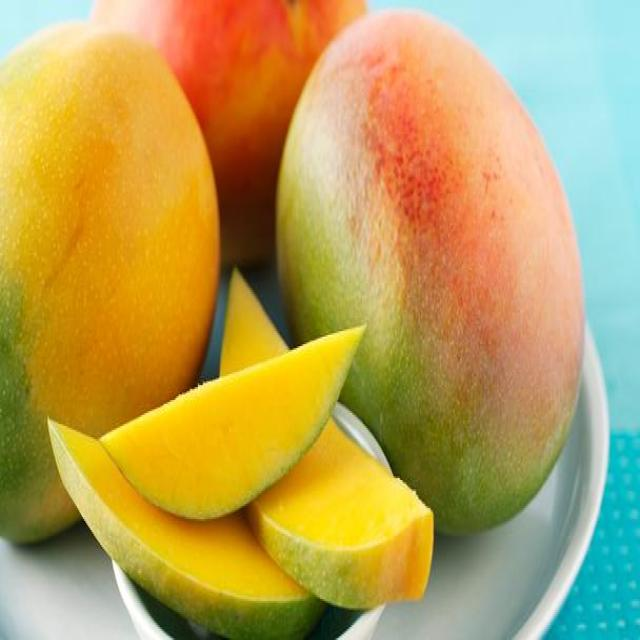mango: (280, 12, 585, 536), (2, 30, 216, 536)
